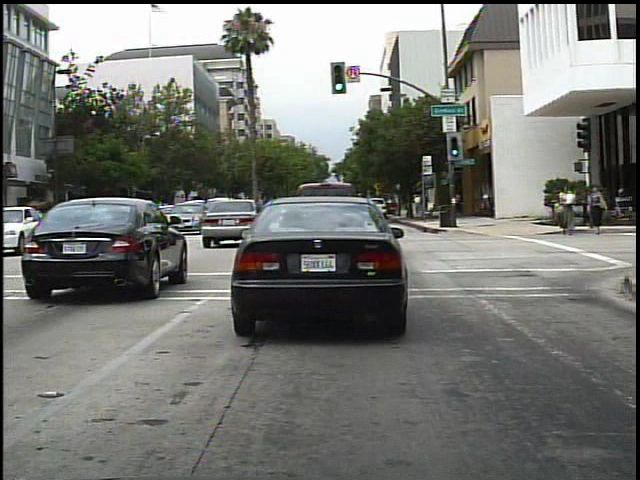person: (556, 178, 582, 240), (585, 181, 612, 239), (408, 188, 426, 219)
